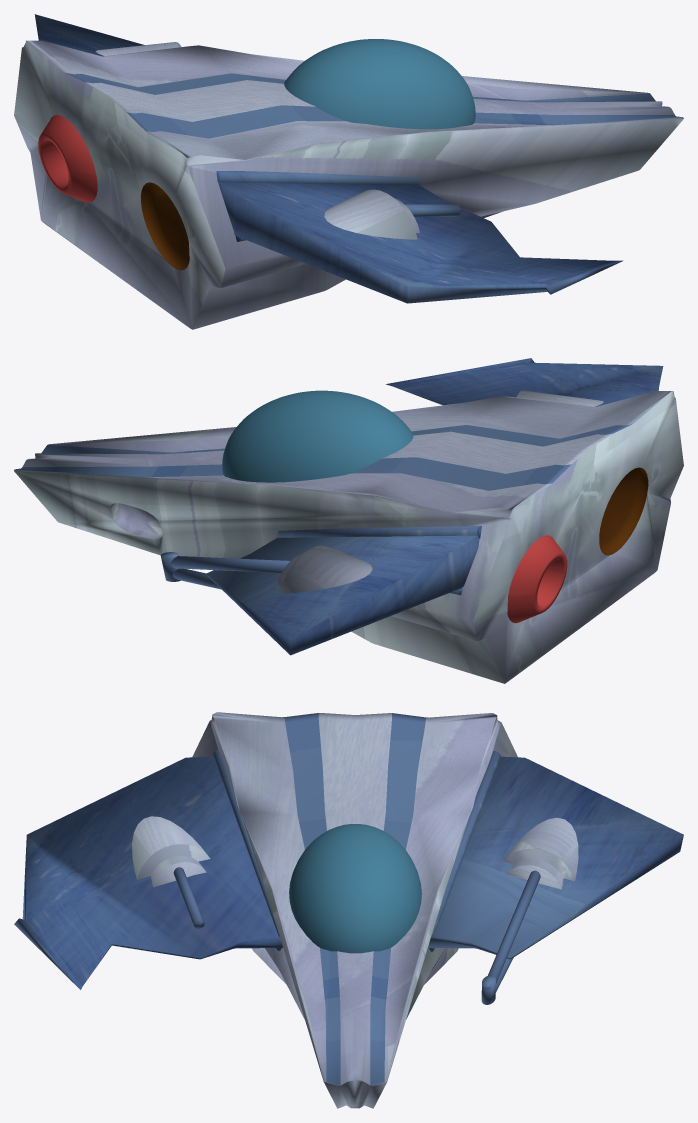
File: SpaceShipV2.fbx
3 views of the same model, one above another, from view 1: azimuth 30°, elevation 25°; view 2: azimuth 150°, elevation 25°; view 3: azimuth 270°, elevation 25° (orthographic). The views are drawn at different scales.
Visible parts, largest first — view 1: SpaceShip, Wings, Screen, BlasterR, ThrusterL, BlasterL; view 2: SpaceShip, Wings, Screen, BlasterL, ThrusterL, BlasterR; view 3: Wings, SpaceShip, Screen, BlasterL, BlasterR.
Part boxes in pixels (x1,y1,x2,y2): SpaceShip: (14, 40, 683, 329); Wings: (34, 14, 623, 303); Screen: (284, 39, 475, 129); BlasterR: (324, 189, 460, 239); ThrusterL: (38, 115, 97, 202); BlasterL: (95, 42, 181, 56); SpaceShip: (14, 391, 683, 683); Wings: (206, 358, 663, 655); Screen: (222, 390, 413, 482); BlasterL: (160, 545, 372, 593); ThrusterL: (507, 535, 567, 623); BlasterR: (516, 390, 603, 406); Wings: (14, 749, 683, 989); SpaceShip: (192, 712, 517, 1108); Screen: (289, 824, 421, 953); BlasterL: (481, 817, 578, 1004); BlasterR: (132, 816, 210, 928).
Bounding box in the file's own units: 13.93 × 4.6 × 16.09.
